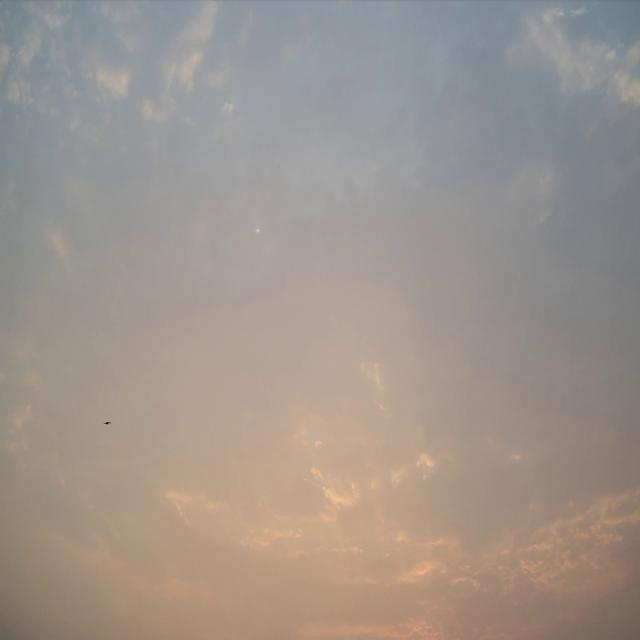UAV: (103, 421, 111, 425)
